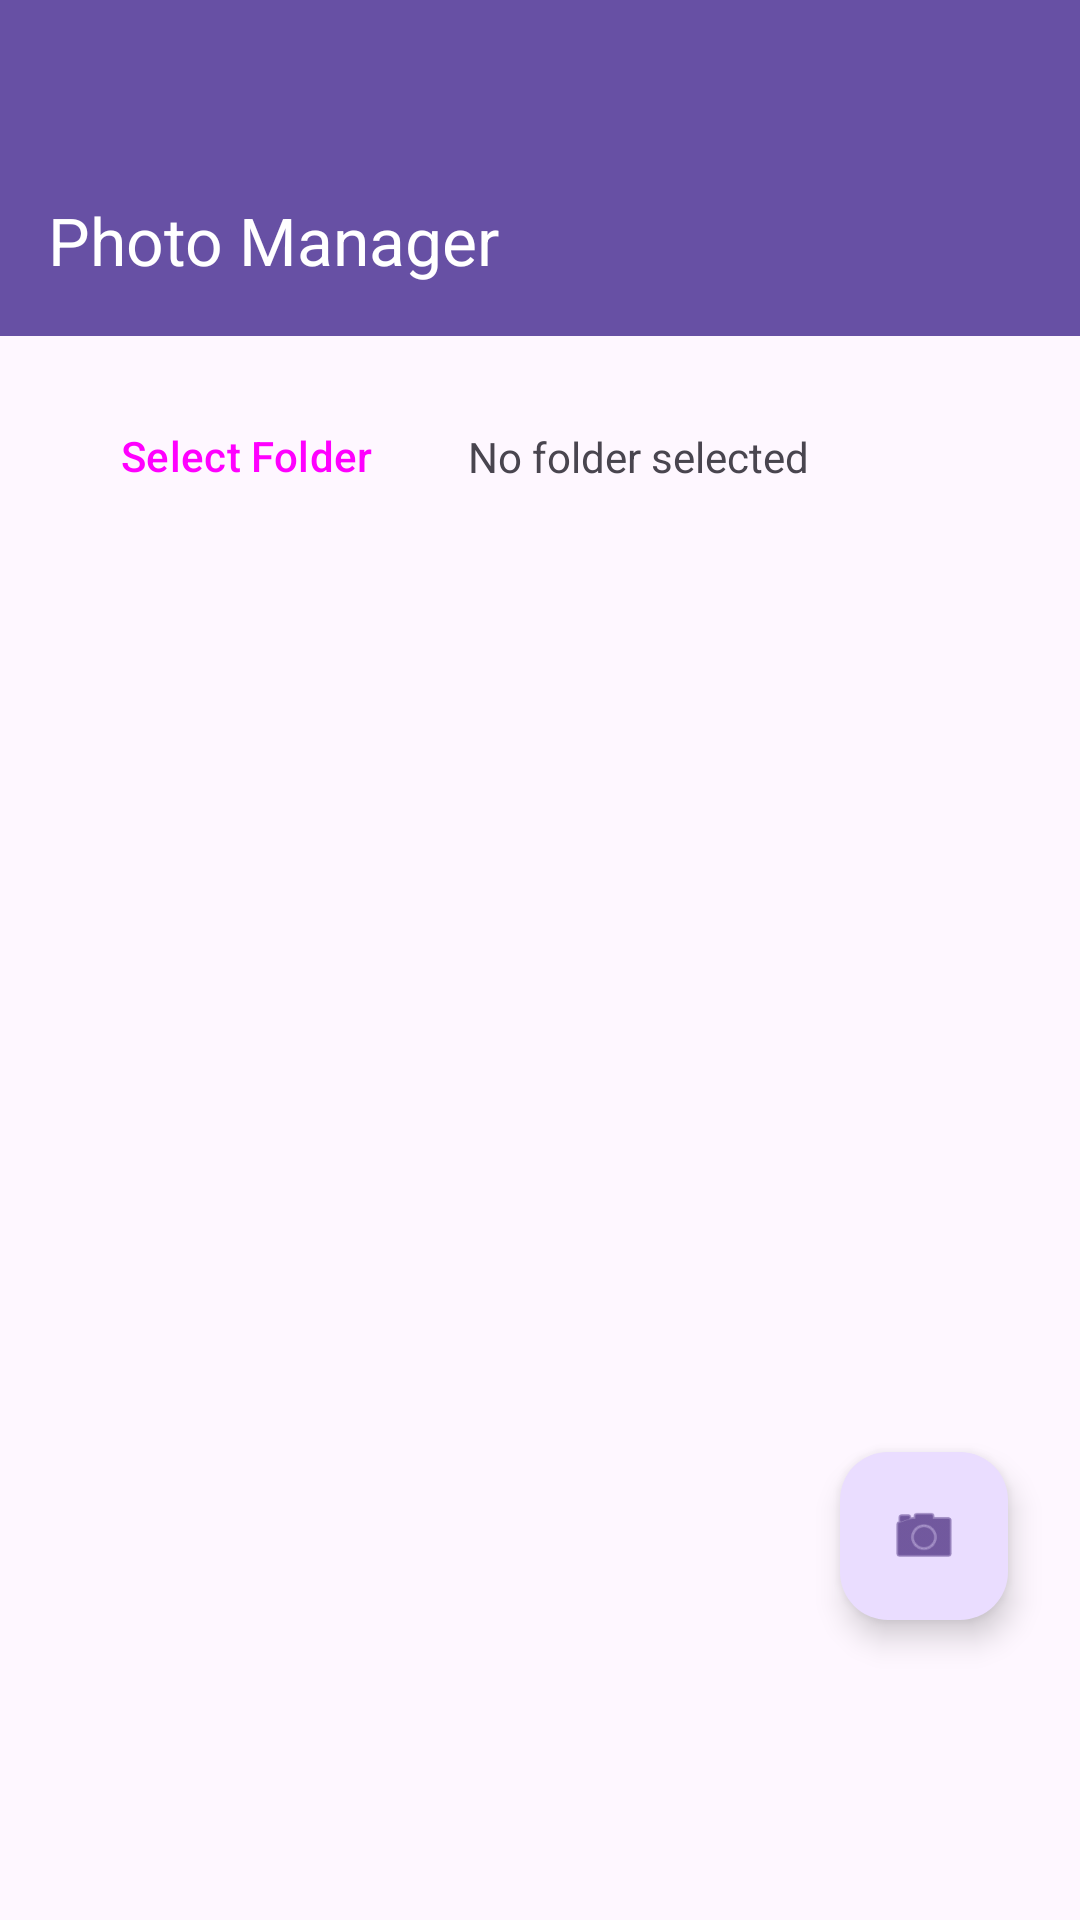

Where to tap for icons on this 1080 × 1920 app screen, as (x=x, y=y):
Take Photo: (x=924, y=1536)
